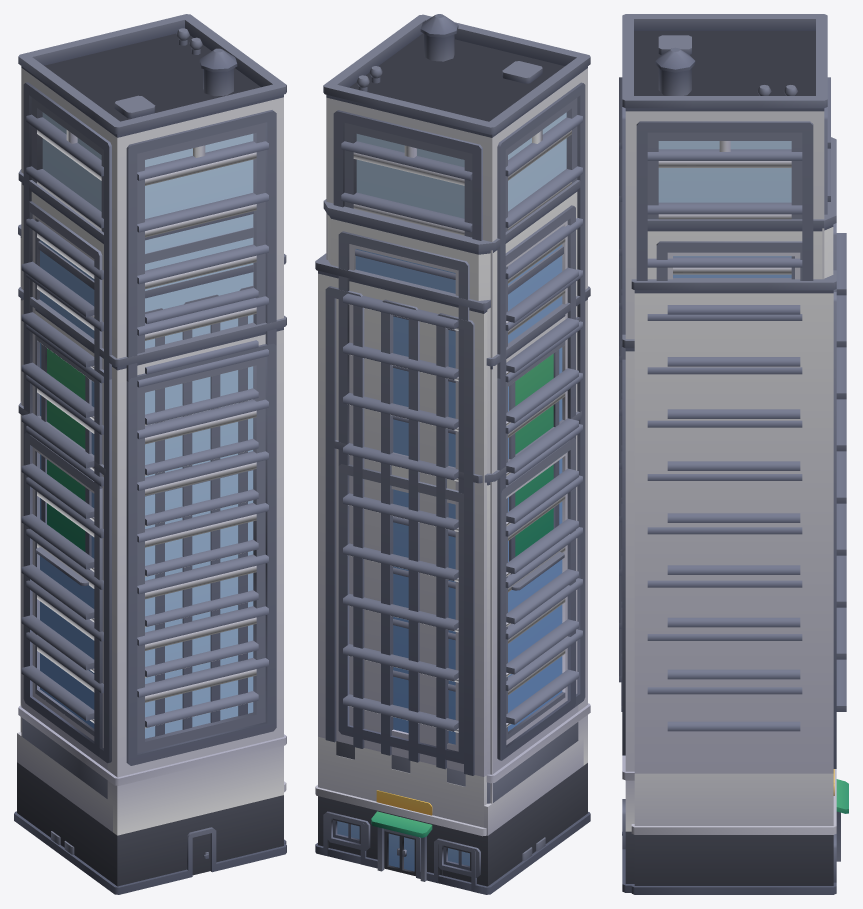
The model's file is buildings.glb.
3 views of the same model, side by side, from view 1: azimuth 30°, elevation 25°; view 2: azimuth 150°, elevation 25°; view 3: azimuth 270°, elevation 25° (orthographic). The views are drawn at different scales.
Parts seen in each view (by area): view 1: building-skyscraper-d, building-skyscraper-c, building-skyscraper-b, building-skyscraper-e, building-skyscraper-a; view 2: building-skyscraper-e, building-skyscraper-b, building-skyscraper-d, building-skyscraper-a, building-skyscraper-c; view 3: building-skyscraper-e, building-skyscraper-d, building-skyscraper-b, building-skyscraper-c, building-skyscraper-a.
Boxes of the visible parts, x1,y1,x2,y2 form: building-skyscraper-d: (18,14,286,893); building-skyscraper-c: (18,287,286,894); building-skyscraper-b: (14,169,258,882); building-skyscraper-e: (18,224,286,844); building-skyscraper-a: (14,401,258,890); building-skyscraper-e: (315,246,564,893); building-skyscraper-b: (323,180,583,887); building-skyscraper-d: (323,14,590,884); building-skyscraper-a: (327,411,586,894); building-skyscraper-c: (371,286,590,881); building-skyscraper-e: (631,270,836,894); building-skyscraper-d: (619,14,845,892); building-skyscraper-b: (621,137,846,731); building-skyscraper-c: (619,334,848,892); building-skyscraper-a: (621,497,846,725).
Size of the model in its own units: 19.04 by 76.58 by 19.43.
3 materials, 3 textured.
